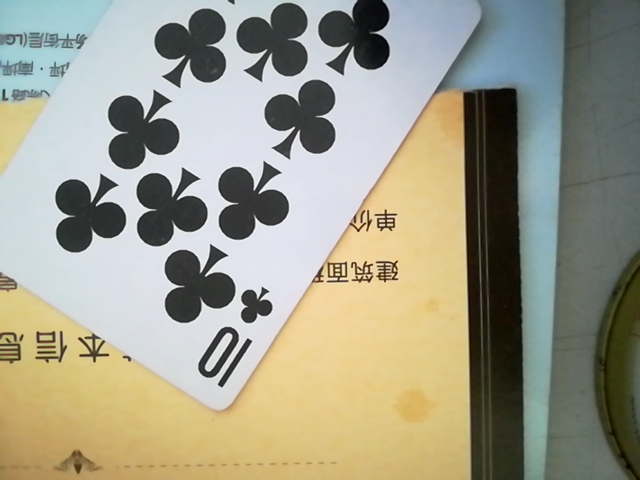mh 10: (0, 5, 519, 422)
